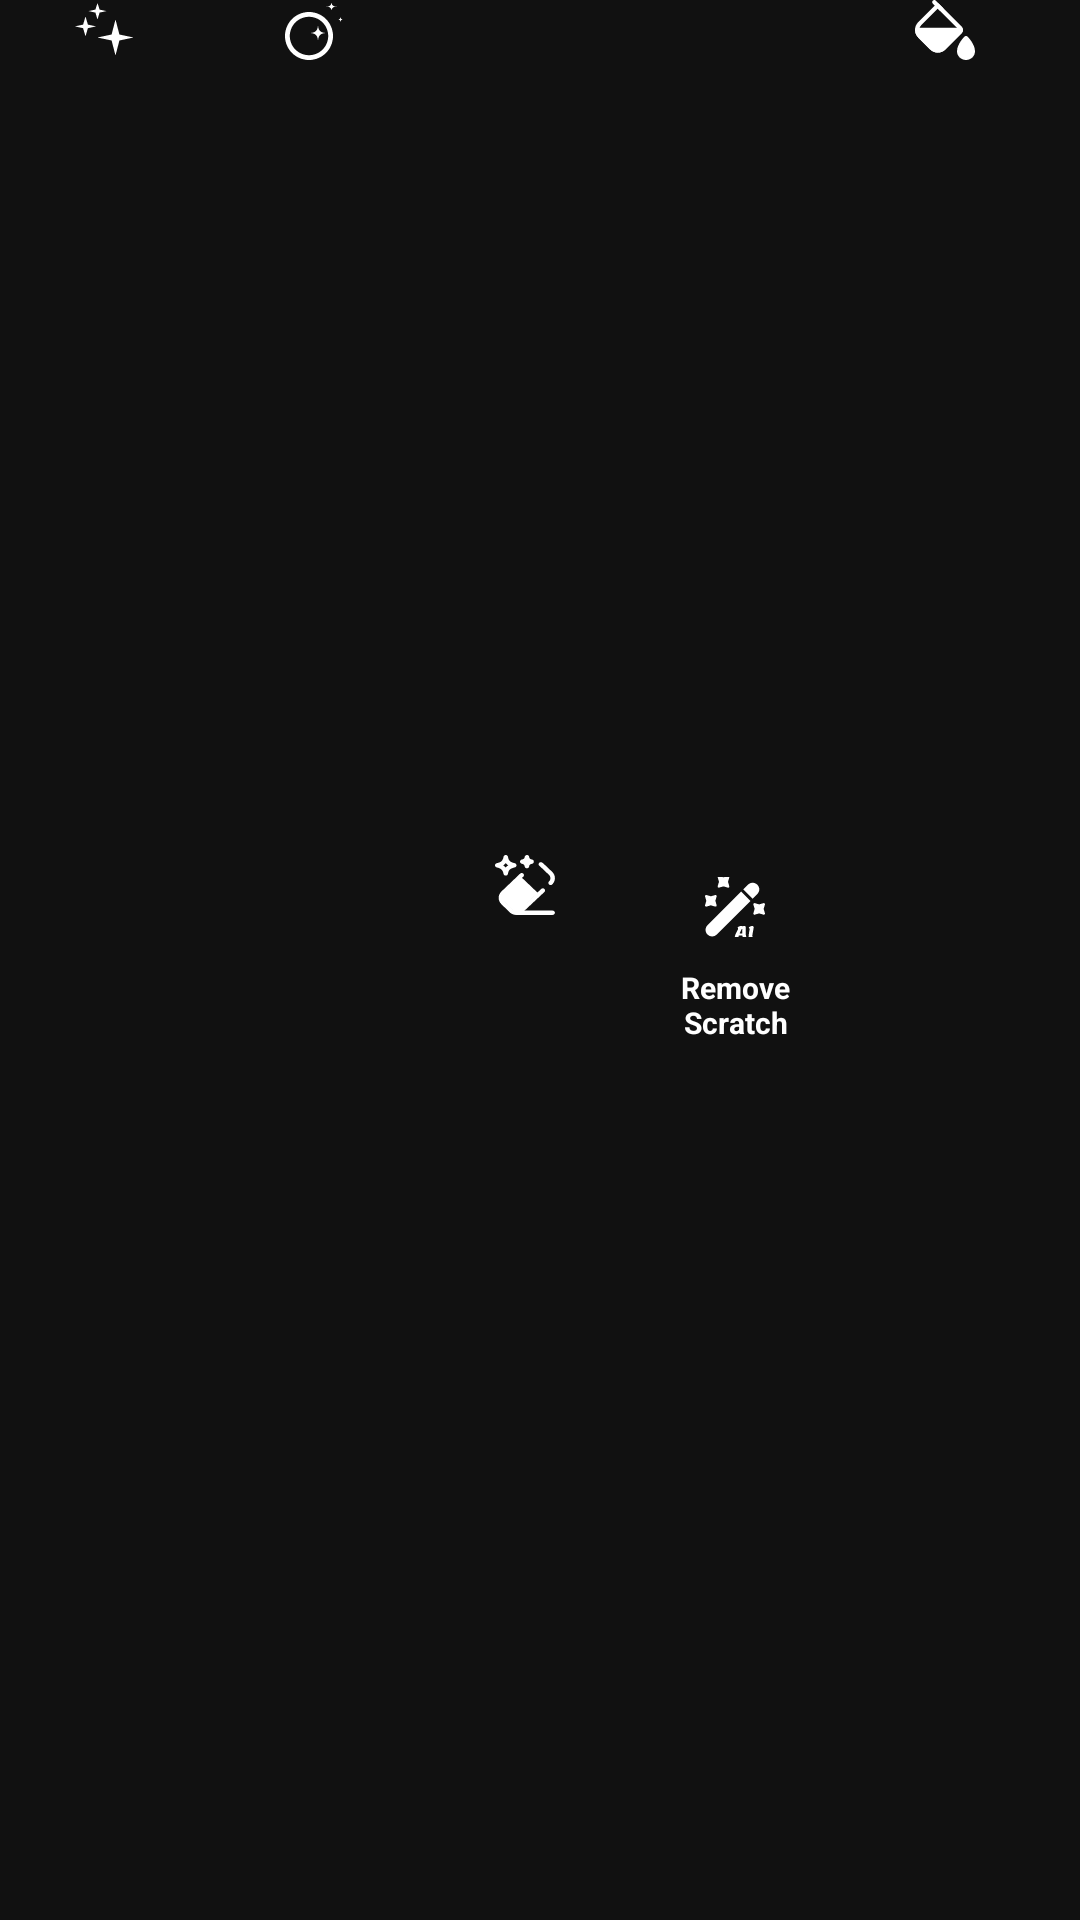

Locate icon controls on the screen. Image size 1080 x 1920, boxes as box(x1, y1, x2, y2).
ai beauty: box(285, 3, 343, 60)
colorize: box(915, 0, 975, 60)
enhance: box(75, 3, 133, 55)
removeobj: box(495, 855, 555, 915)
